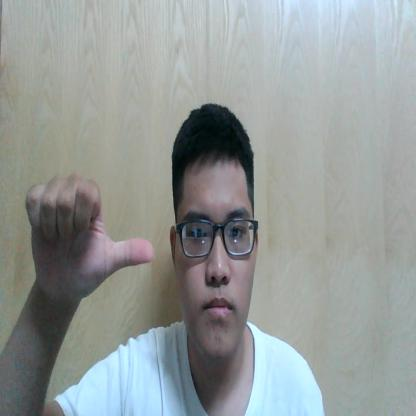left: (25, 170, 157, 292)
